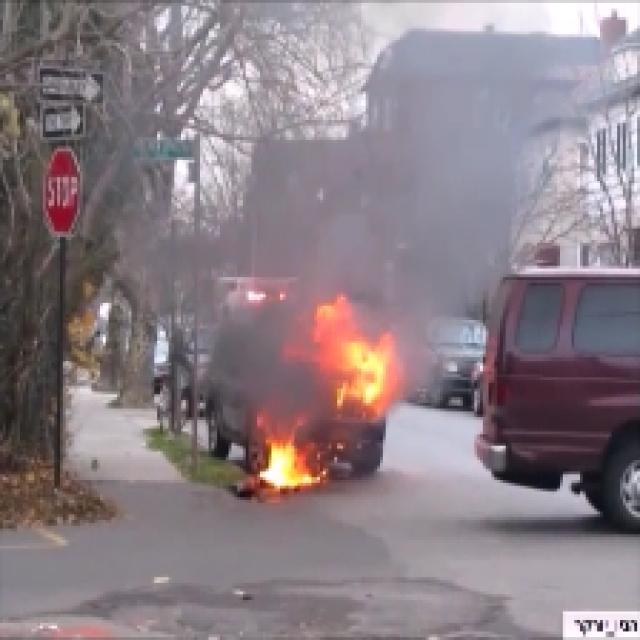fire: (254, 436, 318, 487)
smoke: (278, 152, 489, 305), (228, 326, 308, 428)
